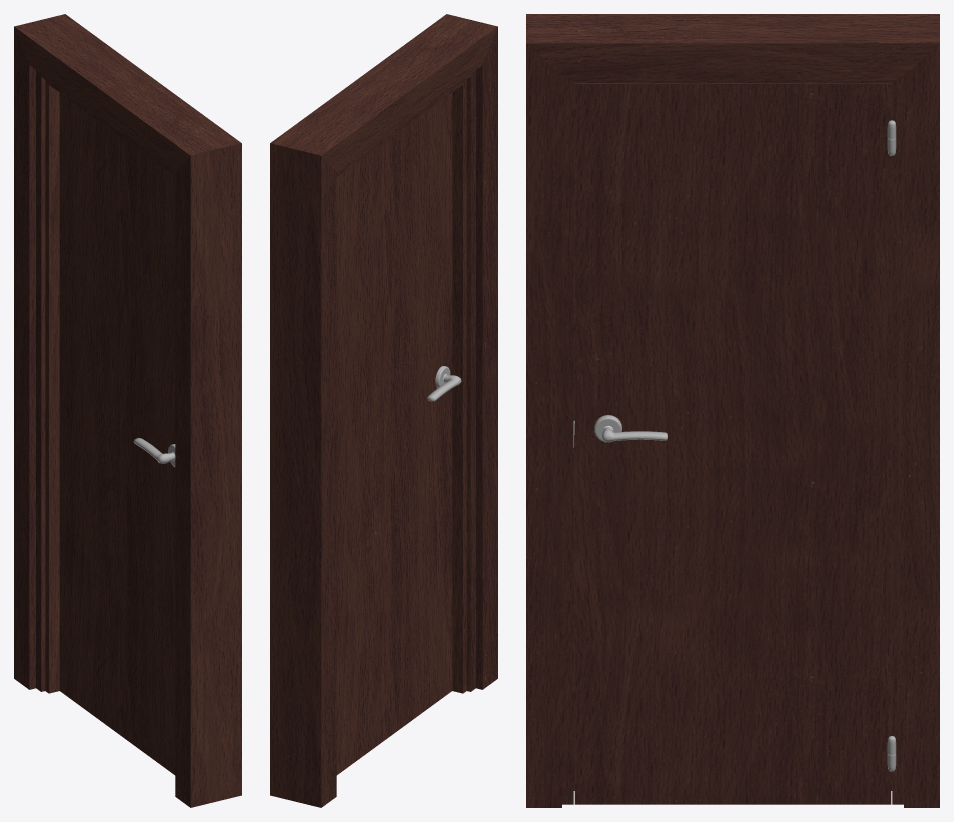
The model's file is door 1 closed.glb.
The picture shows the model from 3 angles, left to right: view 1: azimuth 30°, elevation 25°; view 2: azimuth 150°, elevation 25°; view 3: azimuth 270°, elevation 25°; orthographic projection. The views are drawn at different scales.
Parts seen in each view (by area): view 1: D2-Frame, D2-Door; view 2: D2-Frame, D2-Door; view 3: D2-Door, D2-Frame.
Part boxes in pixels (x1,y1,x2,y2): D2-Frame: [14, 14, 241, 807]; D2-Door: [59, 93, 175, 775]; D2-Frame: [270, 14, 497, 807]; D2-Door: [336, 93, 461, 775]; D2-Door: [574, 83, 896, 804]; D2-Frame: [526, 14, 939, 807].
Bounding box in the file's own units: 0.561 × 5.3 × 2.6.
1 material, 1 textured.
